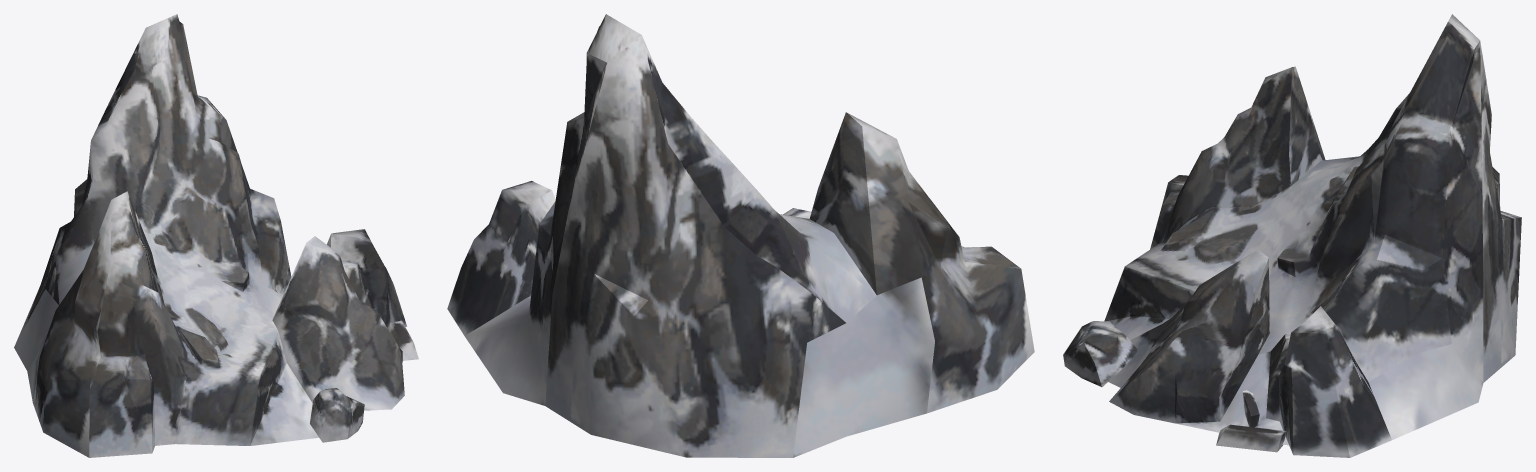
The model's file is 2005_Item_shitou_8.FBX.
3 renders of one model, left to right at view 1: azimuth 30°, elevation 25°; view 2: azimuth 150°, elevation 25°; view 3: azimuth 270°, elevation 25°, orthographic. The views are drawn at different scales.
Visible parts, largest first — view 1: 2005_Item_shitou_8; view 2: 2005_Item_shitou_8; view 3: 2005_Item_shitou_8.
Boxes of the visible parts, bbox=[...] form: 2005_Item_shitou_8: bbox=[14, 14, 418, 457]; 2005_Item_shitou_8: bbox=[447, 14, 1034, 457]; 2005_Item_shitou_8: bbox=[1063, 14, 1521, 457].
Bounding box in the file's own units: 226 × 171 × 205.
